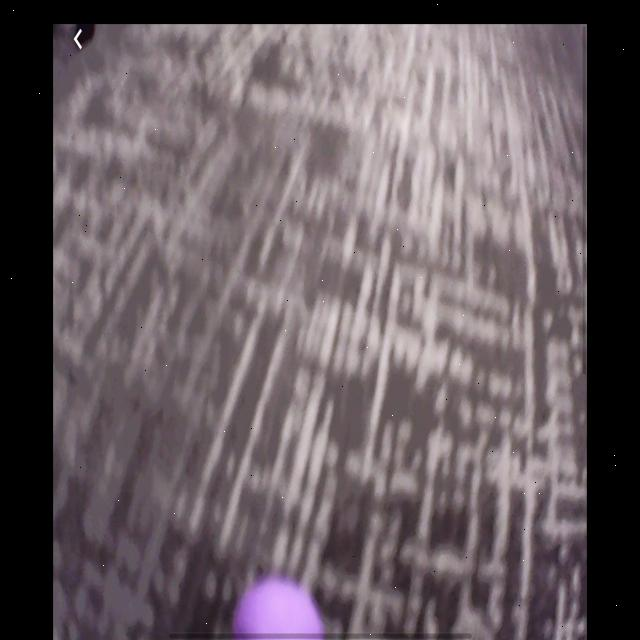ball: (232, 573, 326, 639)
